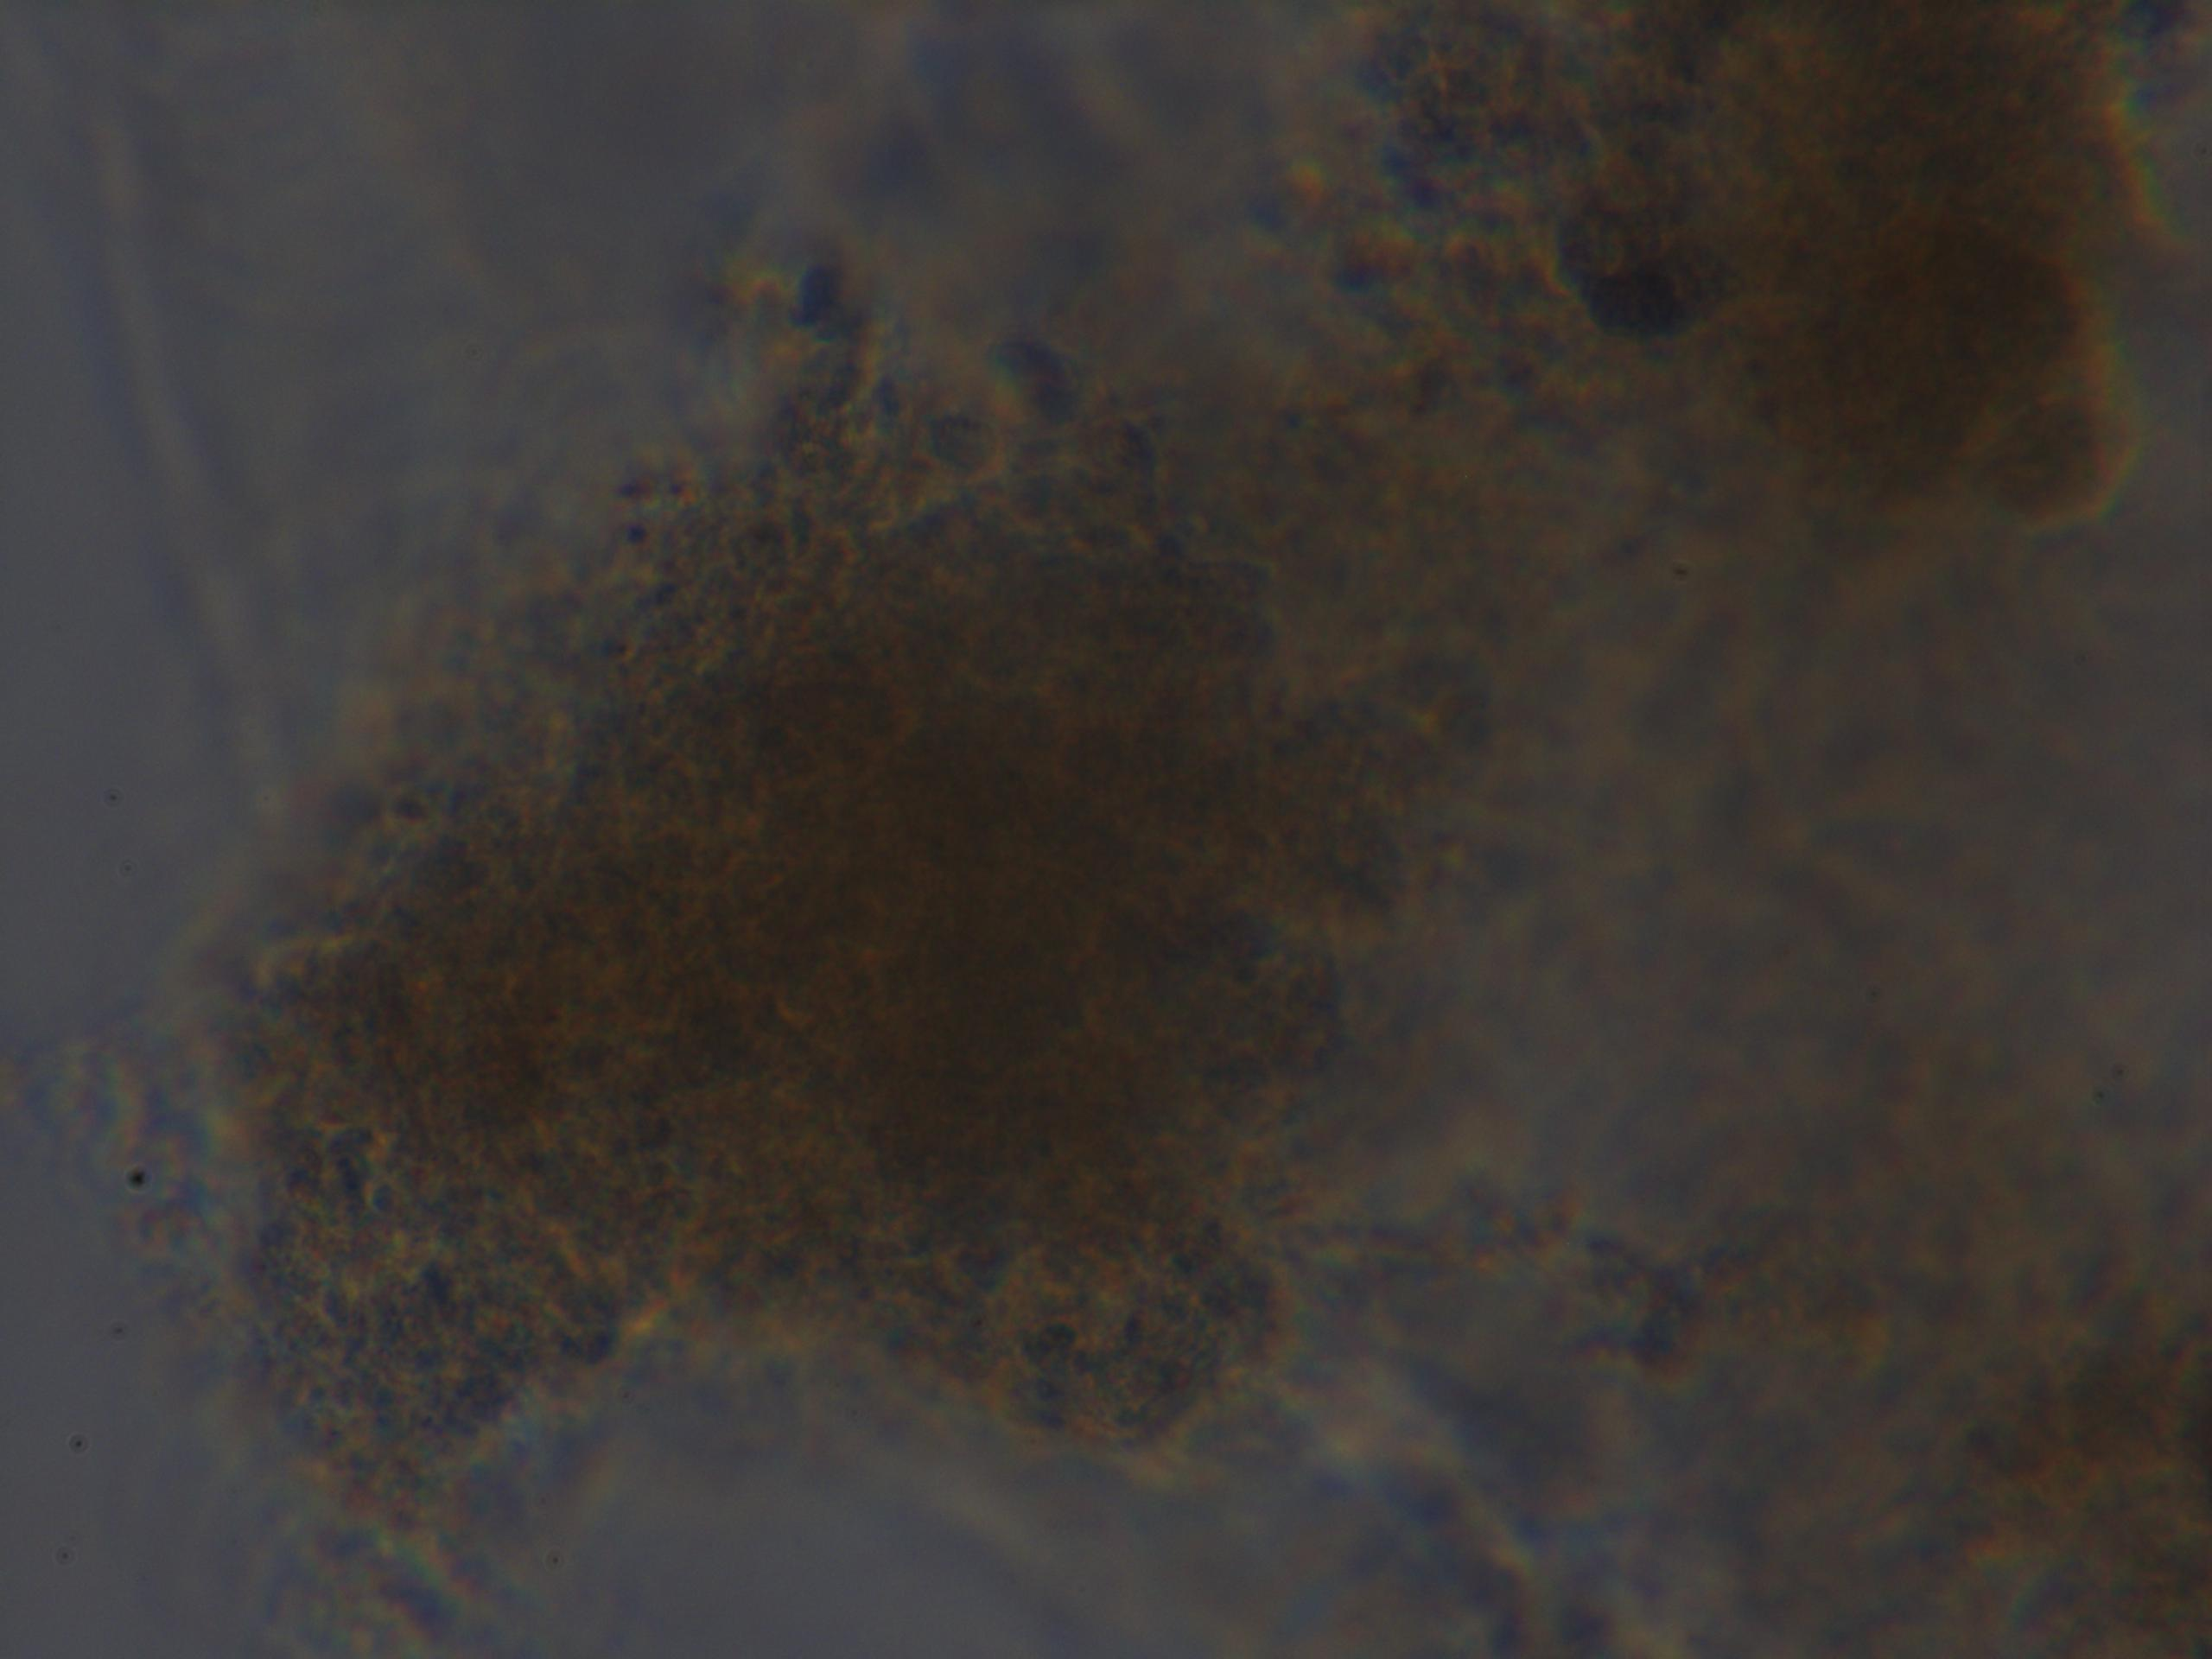spherical_floc: (193, 307, 1420, 1485)
